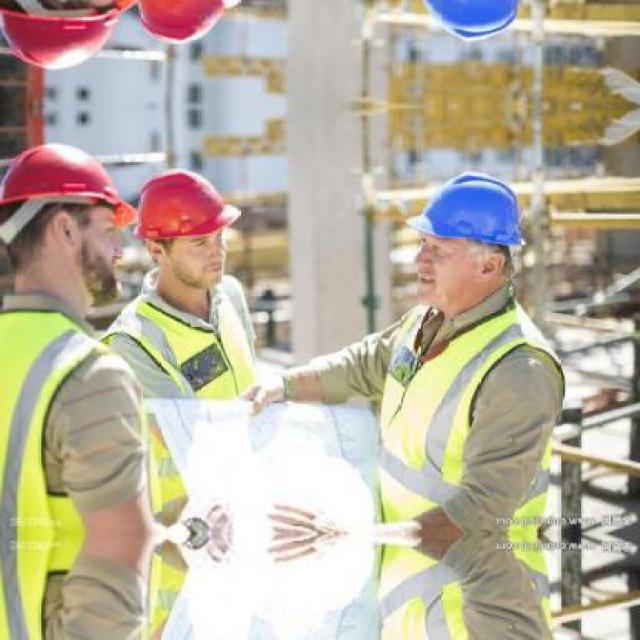Reflective-Jacket: (99, 272, 266, 589), (364, 301, 574, 535), (0, 297, 111, 638), (106, 274, 268, 414)
Safety-Helmet: (0, 134, 135, 243), (398, 164, 534, 259), (129, 164, 246, 252)
